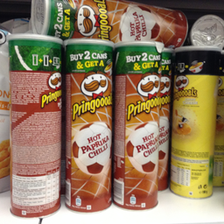chips: (7, 33, 65, 219), (62, 38, 116, 214), (170, 47, 223, 201), (116, 39, 162, 211), (31, 1, 189, 46)
